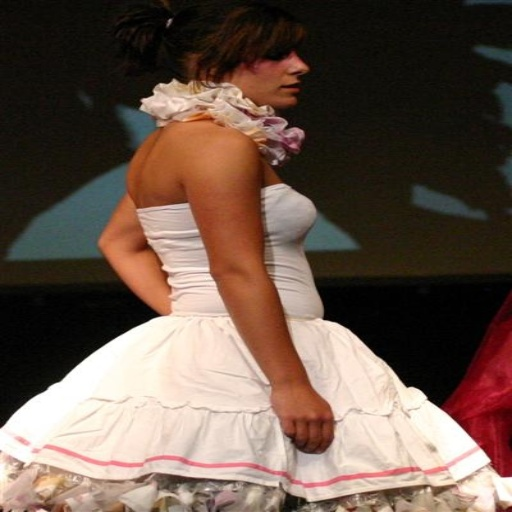hand: (277, 368, 353, 460)
